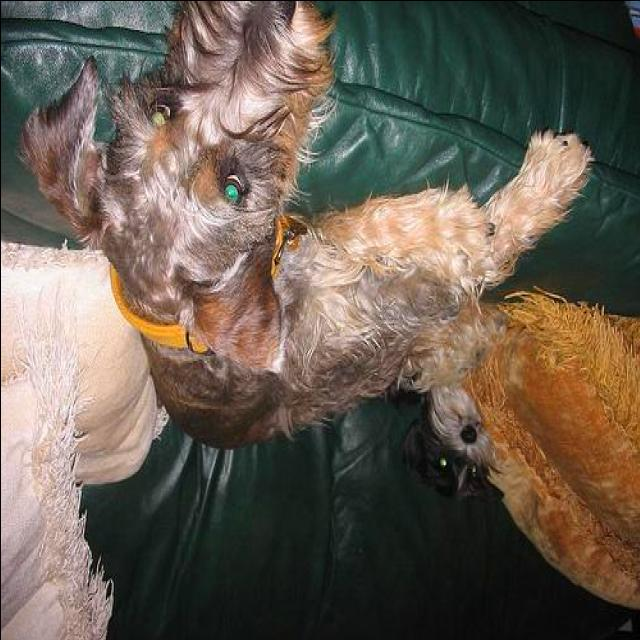standard_schnauzer: (22, 2, 590, 450)
